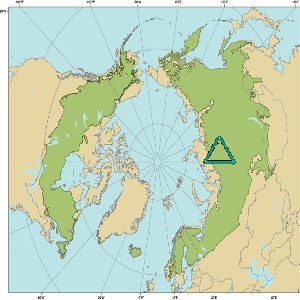triangle: (199, 133, 239, 168)
